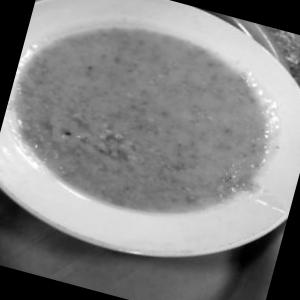porridge: (0, 0, 300, 247)
